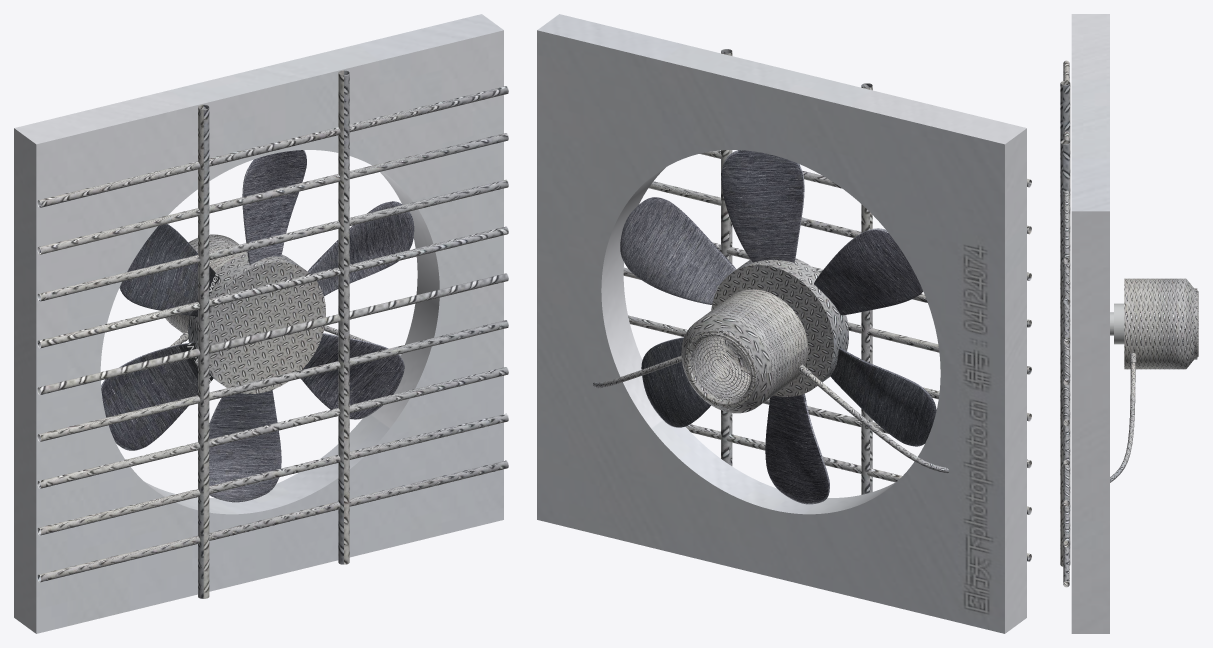
The picture shows the model from 3 angles, left to right: view 1: azimuth 30°, elevation 25°; view 2: azimuth 150°, elevation 25°; view 3: azimuth 270°, elevation 25°; orthographic projection. The views are drawn at different scales.
Parts seen in each view (by area): view 1: 平面.025, 平面.022, 平面.015, 平面.023, 平面.024, 柱体.150; view 2: 平面.025, 平面.015, 柱体.150, 平面.024, 平面.022, 平面.023, vent_cover .001, 平面.014; view 3: 平面.025, 柱体.150, 平面.023, 平面.022, 平面.014, 柱体.149, vent_cover .001.
Boxes of the visible parts, left/top/right/bottom form: 平面.025: left=14, top=14, right=503, bottom=633; 平面.022: left=37, top=86, right=508, bottom=582; 平面.015: left=101, top=150, right=414, bottom=502; 平面.023: left=198, top=70, right=349, bottom=598; 平面.024: left=188, top=253, right=325, bottom=393; 柱体.150: left=165, top=234, right=247, bottom=333; 平面.025: left=537, top=14, right=1026, bottom=633; 平面.015: left=620, top=150, right=936, bottom=504; 柱体.150: left=681, top=289, right=808, bottom=413; 平面.024: left=711, top=258, right=848, bottom=396; 平面.022: left=623, top=150, right=1031, bottom=561; 平面.023: left=721, top=49, right=872, bottom=494; vent_cover .001: left=685, top=329, right=757, bottom=407; 平面.014: left=593, top=356, right=948, bottom=473; 平面.025: left=1071, top=14, right=1109, bottom=633; 柱体.150: left=1124, top=278, right=1194, bottom=369; 平面.023: left=1060, top=81, right=1070, bottom=566; 平面.022: left=1063, top=60, right=1069, bottom=587; 平面.014: left=1110, top=353, right=1136, bottom=482; 柱体.149: left=1114, top=303, right=1124, bottom=344; vent_cover .001: left=1194, top=288, right=1198, bottom=359.
Size of the model in its own units: 0.8198 by 0.8198 by 0.2425.
3 materials, 3 textured.
